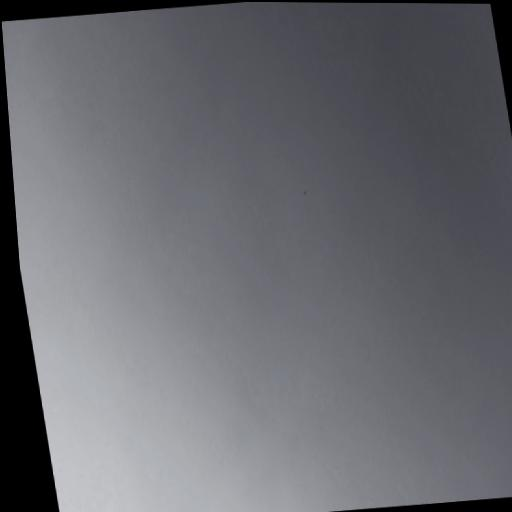drones: (302, 188, 308, 197)
